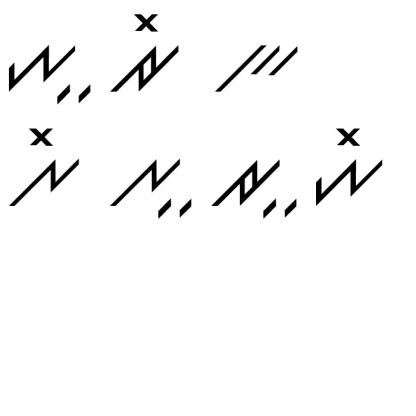lah: (105, 140, 196, 229)
lo: (2, 122, 87, 212)
rah: (204, 152, 298, 224)
ro: (104, 10, 180, 103)
yah: (4, 36, 93, 104)
yo: (305, 125, 387, 211)
